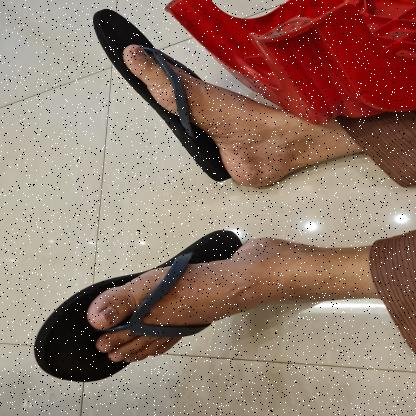leg: (20, 213, 370, 392), (80, 5, 367, 198)
